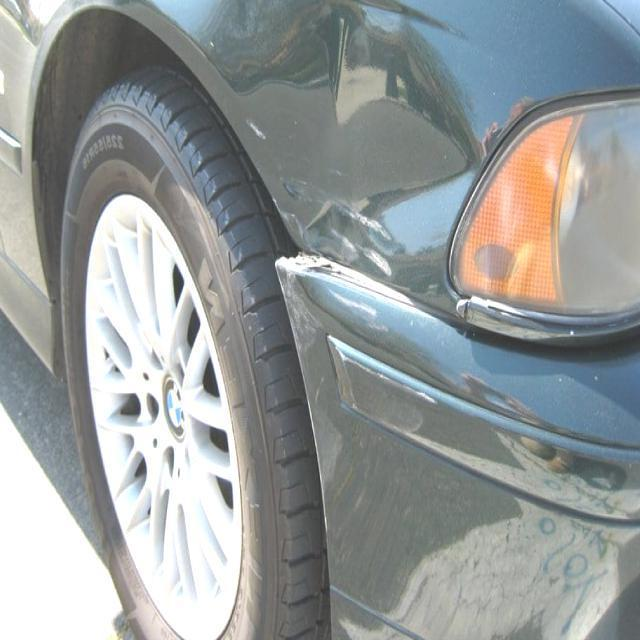minor: (178, 0, 499, 315), (329, 283, 376, 331)
